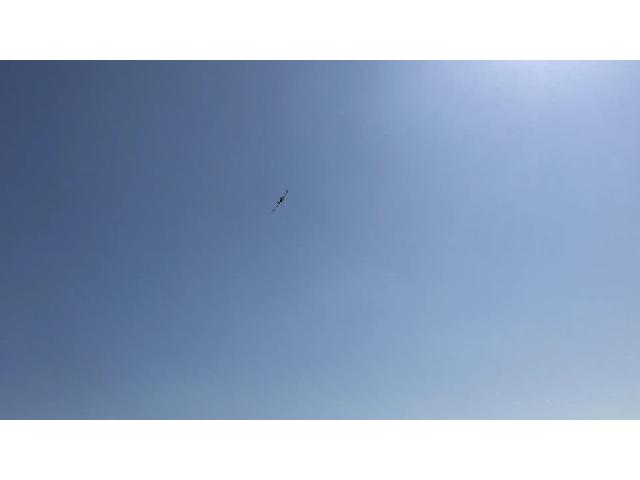Anti-Drone: (256, 178, 298, 220)
